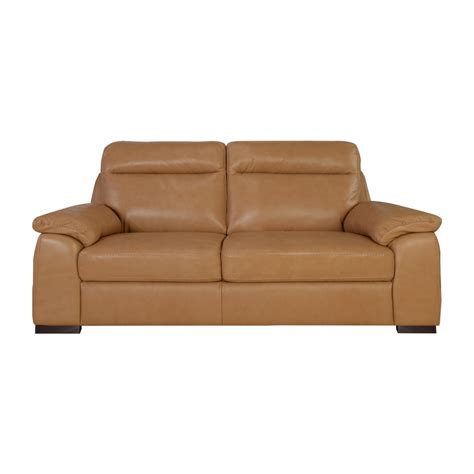cuero: (29, 140, 445, 328)
